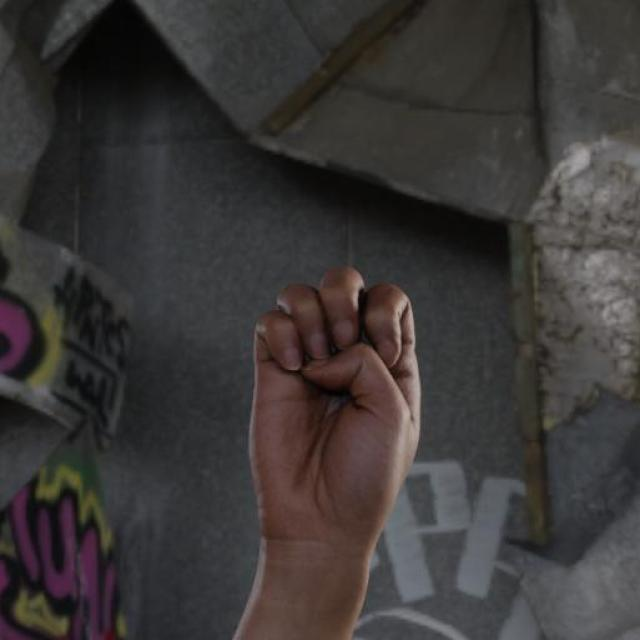E: (248, 265, 426, 553)
